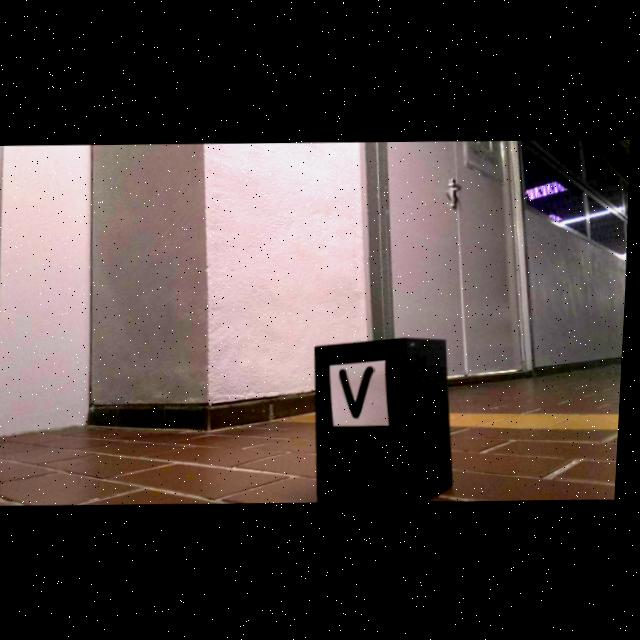V: (343, 365, 378, 417)
